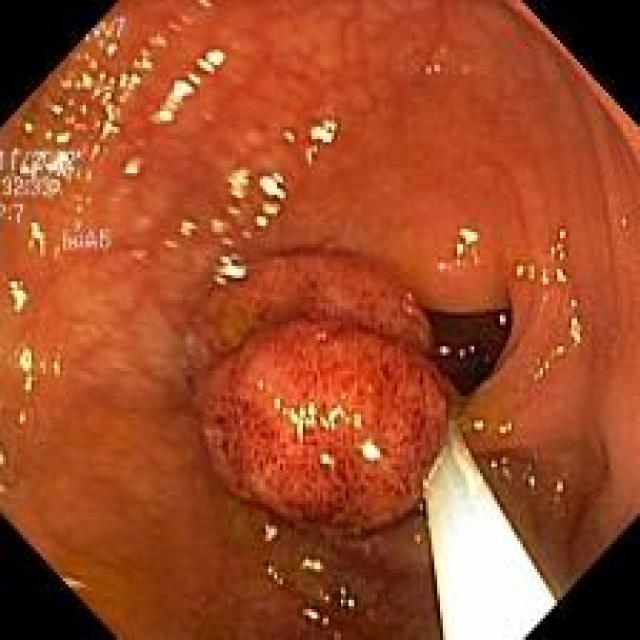Polyps: (186, 252, 448, 538)
